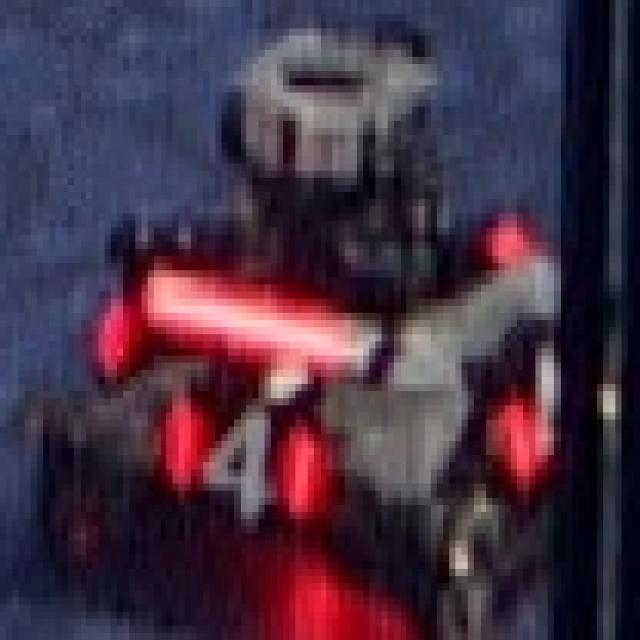R4: (160, 384, 320, 526)
